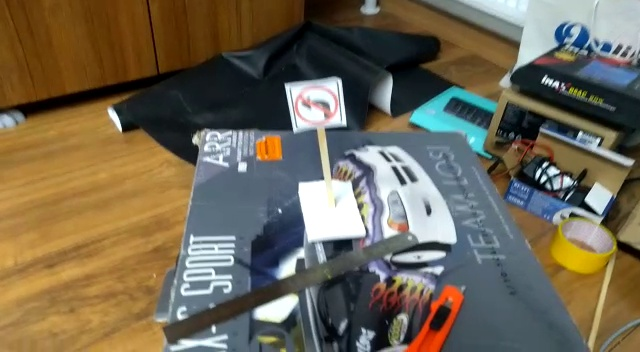sola_donulmez: (293, 82, 340, 125)
